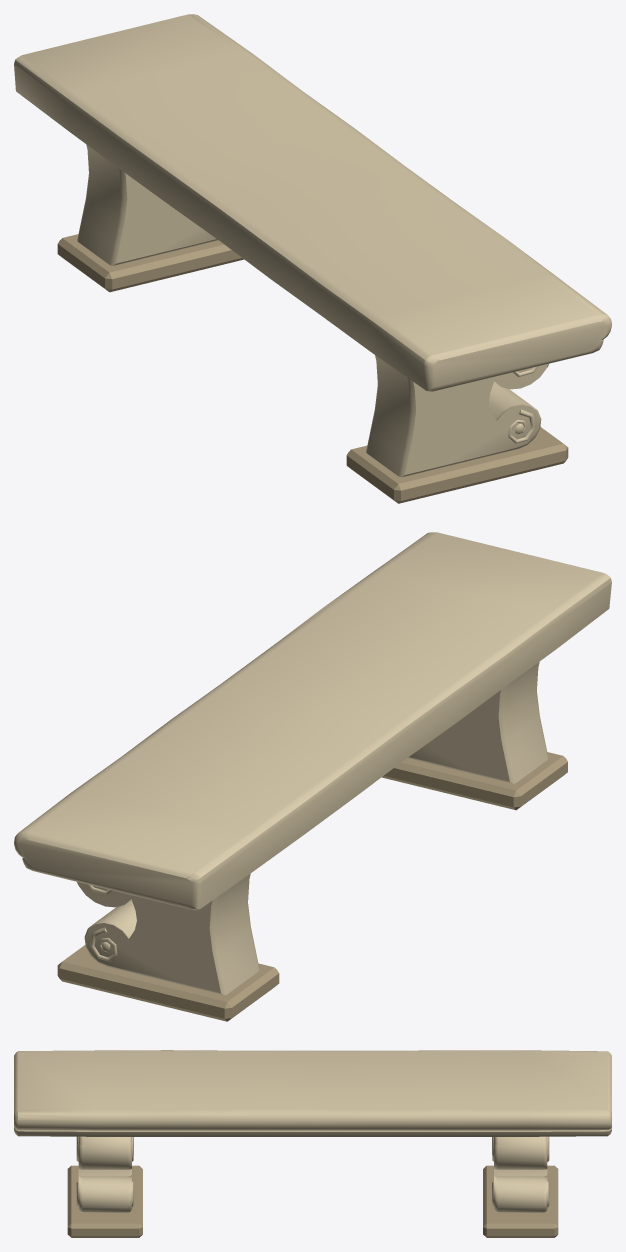
3 renders of one model, top to bottom at view 1: azimuth 30°, elevation 25°; view 2: azimuth 150°, elevation 25°; view 3: azimuth 270°, elevation 25°, orthographic. The views are drawn at different scales.
Parts seen in each view (by area): view 1: Bench_Stone, Bench_Weathered; view 2: Bench_Stone, Bench_Weathered; view 3: Bench_Stone, Bench_Weathered.
Part boxes in pixels (x1=…): Bench_Stone: x1=14, y1=14, x2=611, y2=477; Bench_Weathered: x1=57, y1=234, x2=568, y2=503; Bench_Stone: x1=14, y1=532, x2=611, y2=995; Bench_Weathered: x1=57, y1=752, x2=567, y2=1021; Bench_Stone: x1=14, y1=1050, x2=611, y2=1212; Bench_Weathered: x1=67, y1=1165, x2=558, y2=1237.
Bounding box in the file's own units: 0.5011 × 0.4485 × 1.9.
